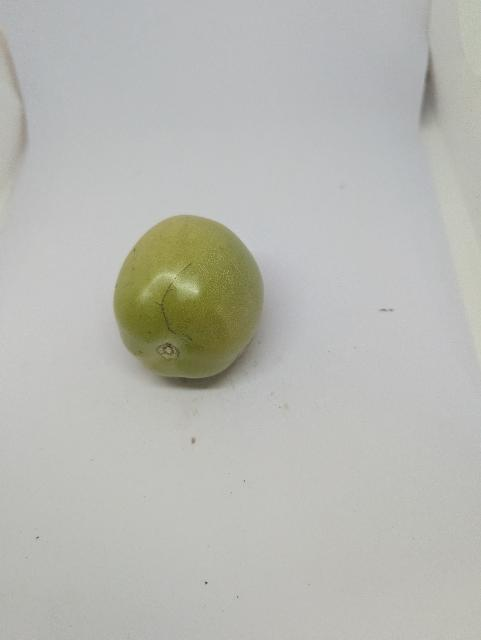green: (112, 213, 267, 382)
